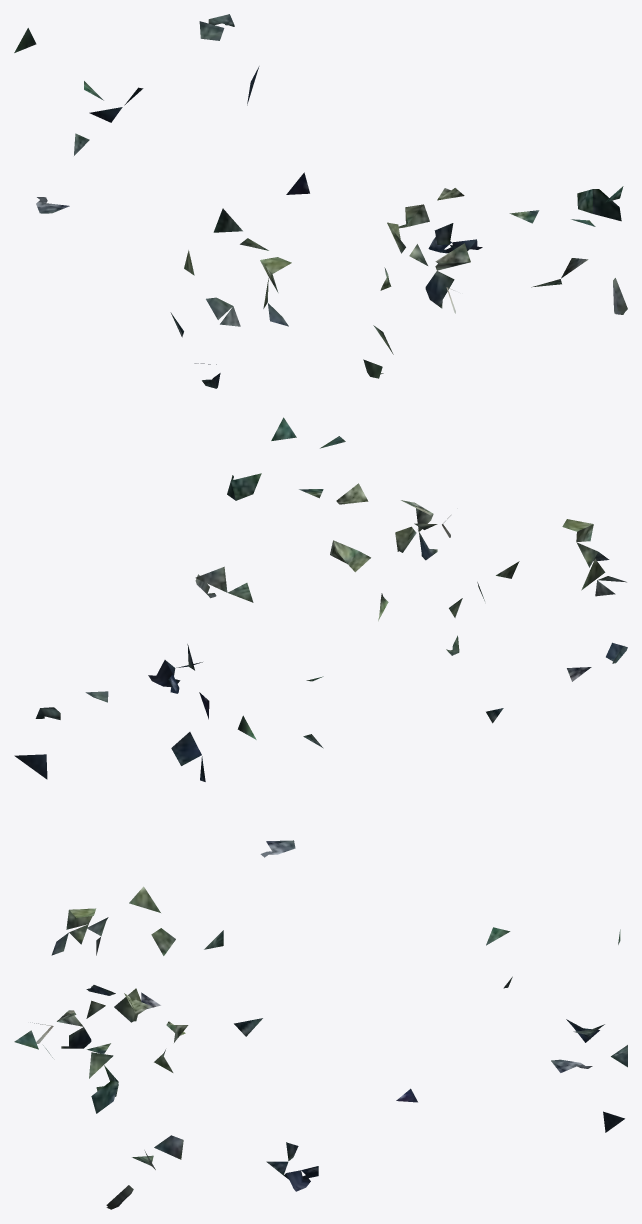
3 views of the same model, one above another, from view 1: azimuth 30°, elevation 25°; view 2: azimuth 150°, elevation 25°; view 3: azimuth 270°, elevation 25° (orthographic). The views are drawn at different scales.
Parts seen in each view (by area): view 1: 30436272704361635607_1; view 2: 30436272704361635607_1; view 3: 30436272704361635607_1.
Part boxes in pixels (box(x1,y1,x2,y2)): 30436272704361635607_1: box(14, 14, 627, 388); 30436272704361635607_1: box(14, 417, 627, 857); 30436272704361635607_1: box(14, 886, 627, 1209).
Size of the model in its own units: 27.31 by 10.17 by 37.95.
1 material, 1 textured.
